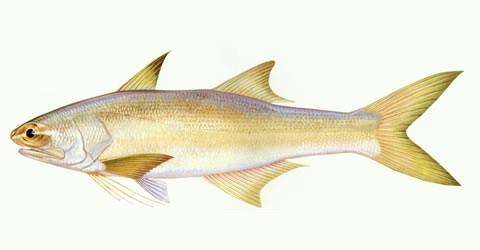Indo-Pacific Tarpon: (9, 50, 463, 208)
